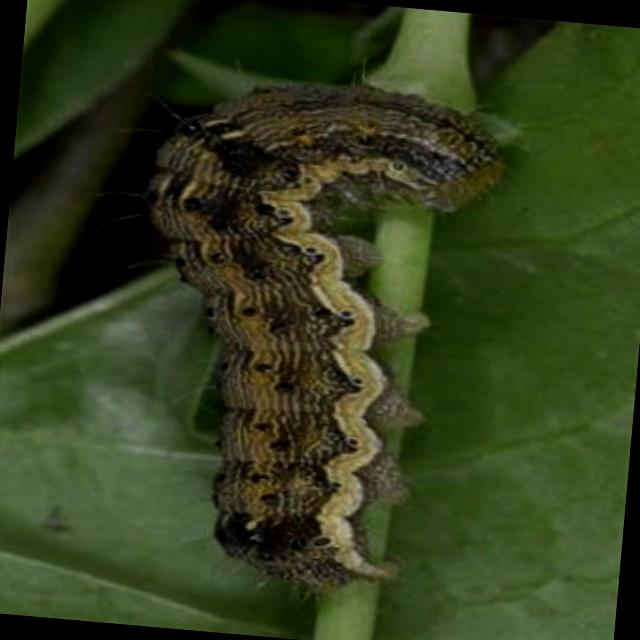Cotton bollworm: (76, 18, 552, 620)
